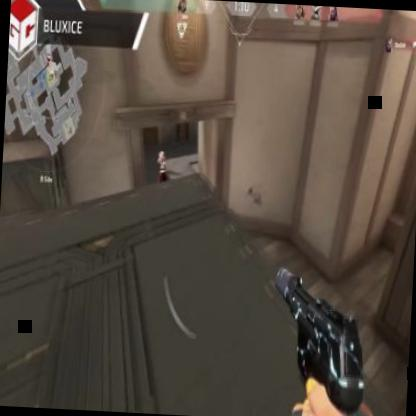enemy: (154, 150, 170, 192)
enemy_head: (158, 150, 164, 160)
